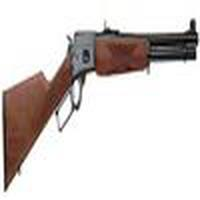gun: (1, 23, 199, 172)
